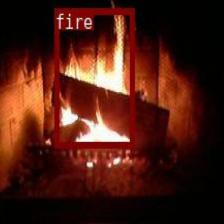fire: (54, 7, 133, 147)
